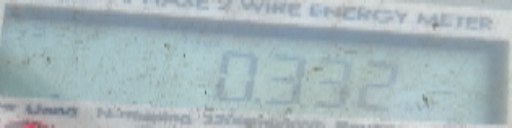0: (213, 48, 264, 105)
2: (358, 51, 405, 115)
3: (266, 46, 313, 110), (308, 48, 355, 112)
d: (252, 85, 265, 112)
